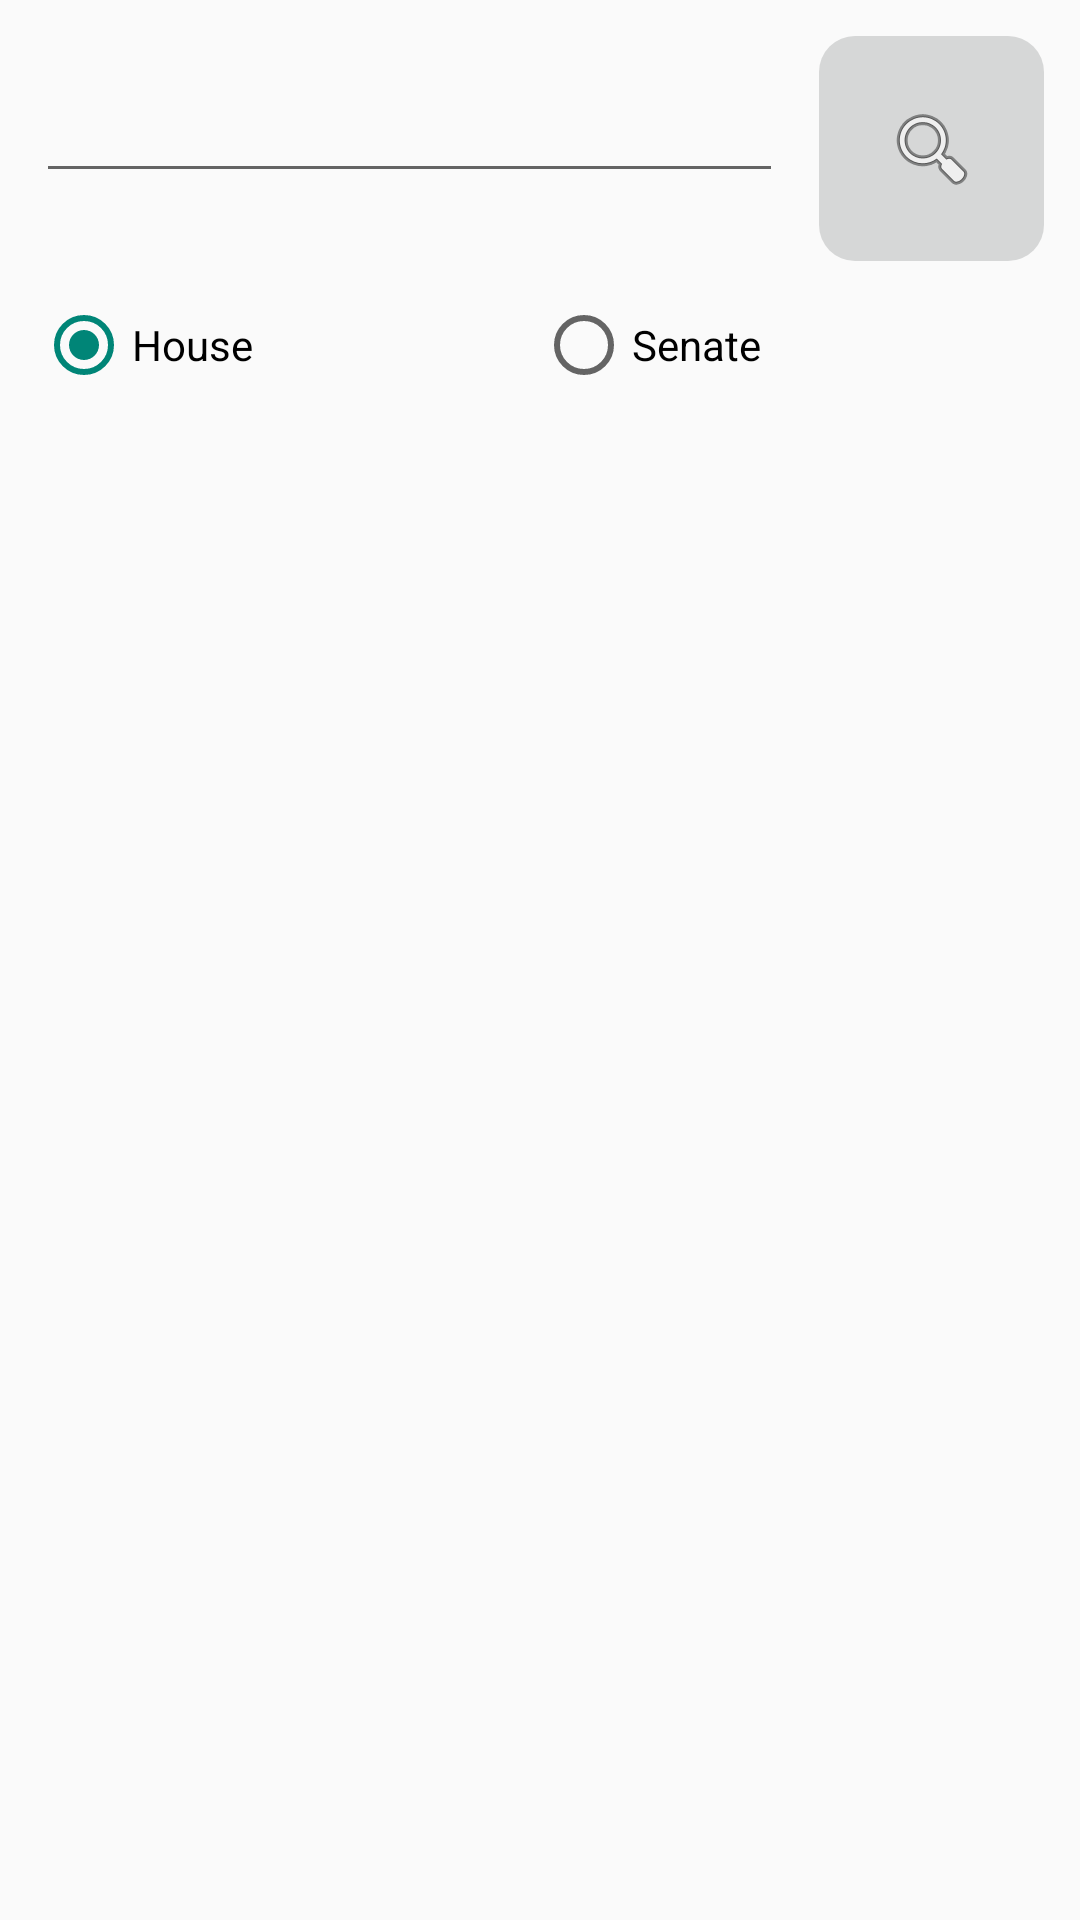

Icons on this 1080px x 1920px Android screen, each with the point to tap as [x,y]:
search button: [931,148]
